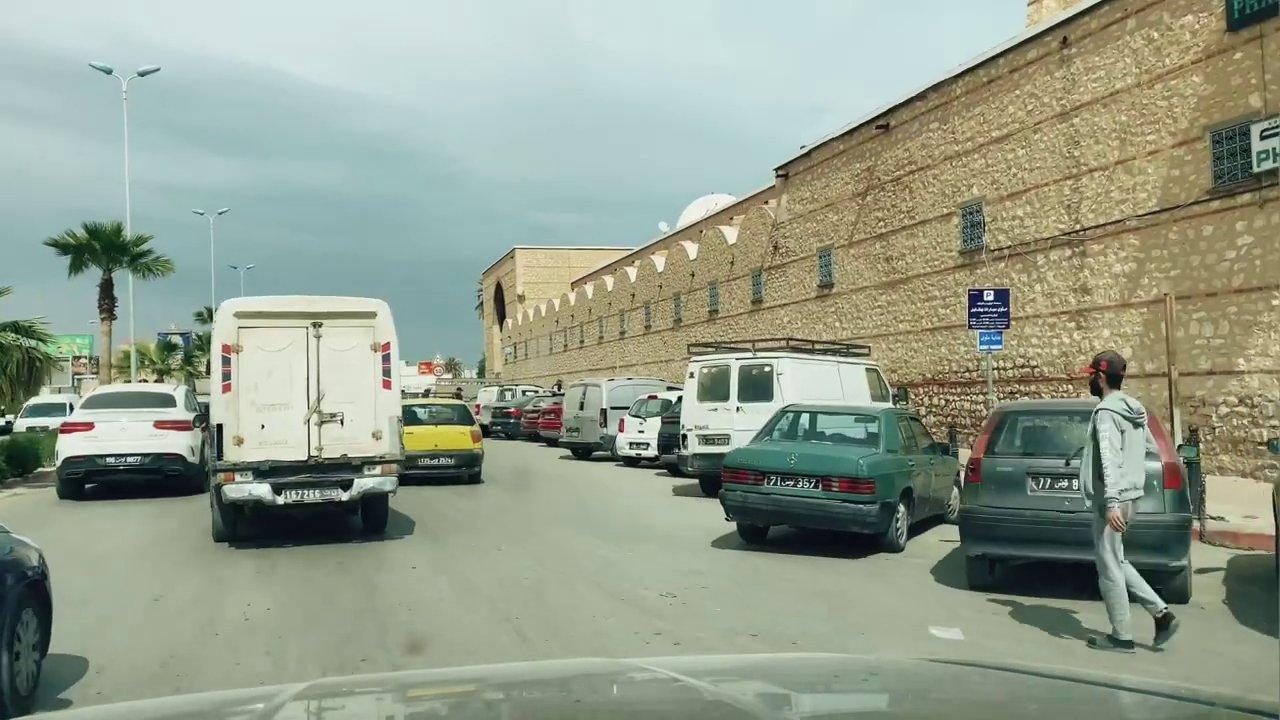pay parking zone: (965, 286, 1014, 332)
